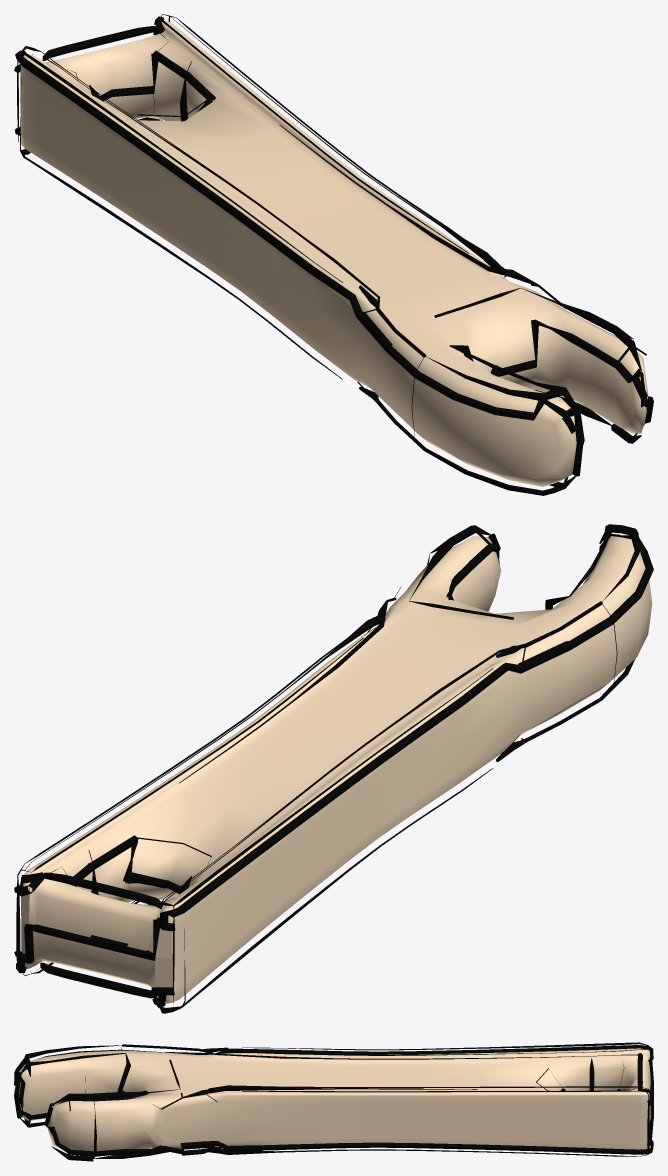
File: Wrench.fbx
3 views of the same model, one above another, from view 1: azimuth 30°, elevation 25°; view 2: azimuth 150°, elevation 25°; view 3: azimuth 270°, elevation 25° (orthographic). The views are drawn at different scales.
Visible parts, largest first — view 1: pCube1, Main; view 2: pCube1, Main; view 3: pCube1, Main.
Boxes of the visible parts, x1,y1,x2,y2 form: pCube1: (20, 20, 648, 486); Main: (14, 14, 653, 495); pCube1: (21, 536, 652, 1003); Main: (14, 524, 653, 1013); pCube1: (14, 1048, 650, 1151); Main: (14, 1042, 653, 1161).
Bounding box in the file's own units: 2.3 × 1.15 × 9.49.
